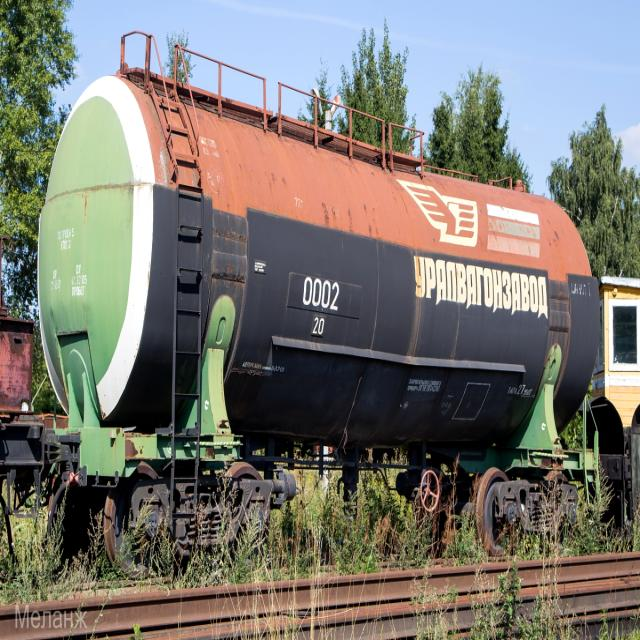Cart: (50, 463, 266, 580), (474, 469, 574, 562)
Coupling: (41, 426, 81, 476)
Tank car: (38, 68, 602, 457)
